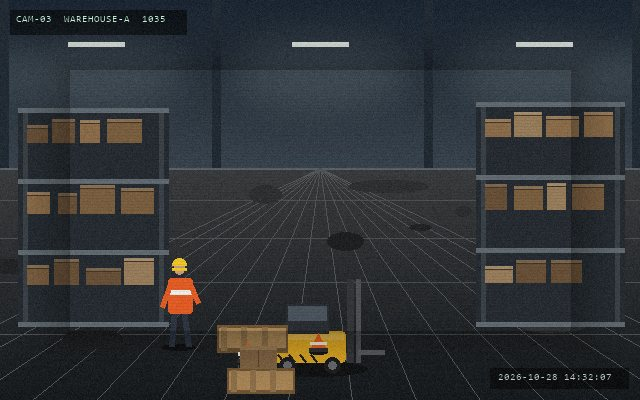cone: (236, 341, 258, 365), (308, 331, 328, 354)
forklift: (267, 277, 386, 376)
pallet: (215, 323, 289, 354), (225, 366, 296, 395), (226, 366, 297, 395)
person: (160, 256, 200, 349)
shelf: (476, 102, 624, 322), (18, 108, 168, 322)
